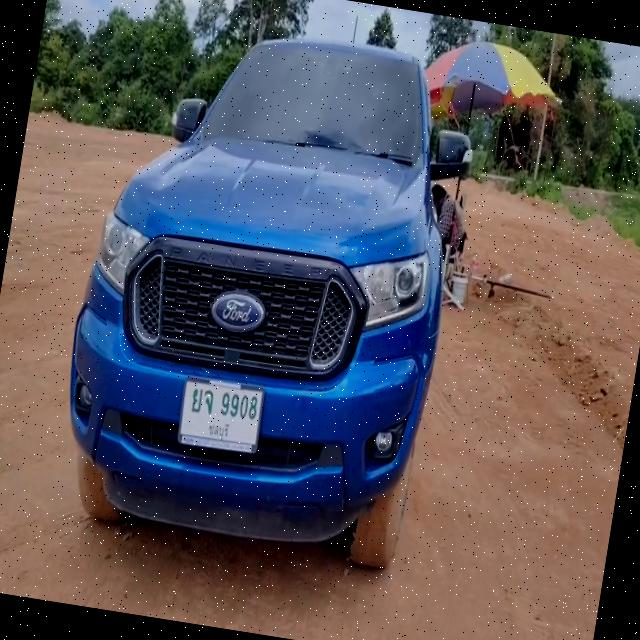Digit: (220, 387, 260, 422)
Licenseplate: (174, 376, 268, 458)
Provincename: (206, 418, 232, 442)
Thaichar: (190, 384, 214, 416)
